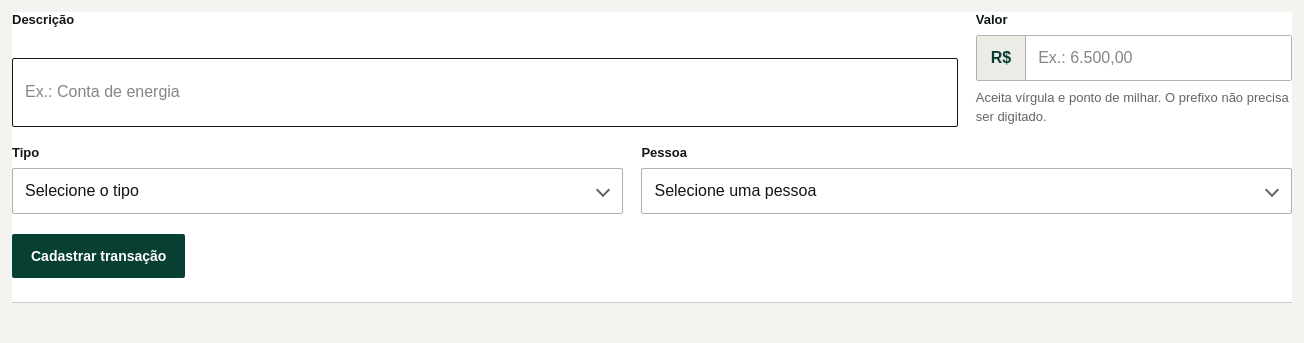
TransactionForm › exige tipo e pessoa
Type "Compra de supermercado" into the field labelled "Descrição".
click(485, 92); type("Compra de supermercado")  # box [12,58,958,127]
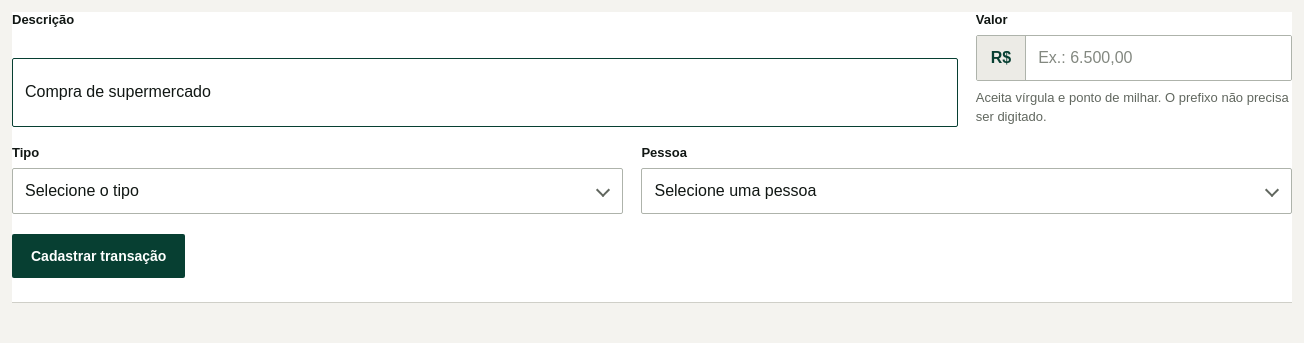
Type "100" into the field labelled "Valor".
click(1159, 58); type("100")  # box [1026,36,1291,80]
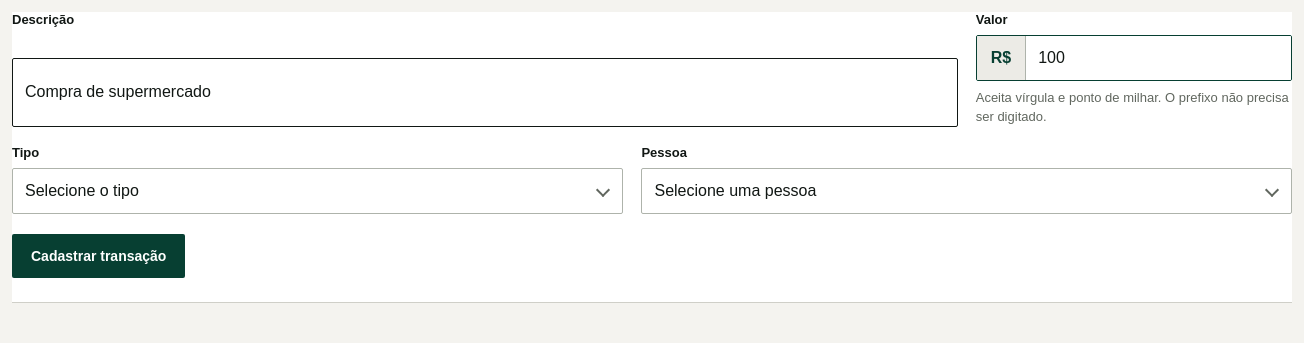
Click the button "Cadastrar transação".
click(99, 256)  # box [12,234,185,278]
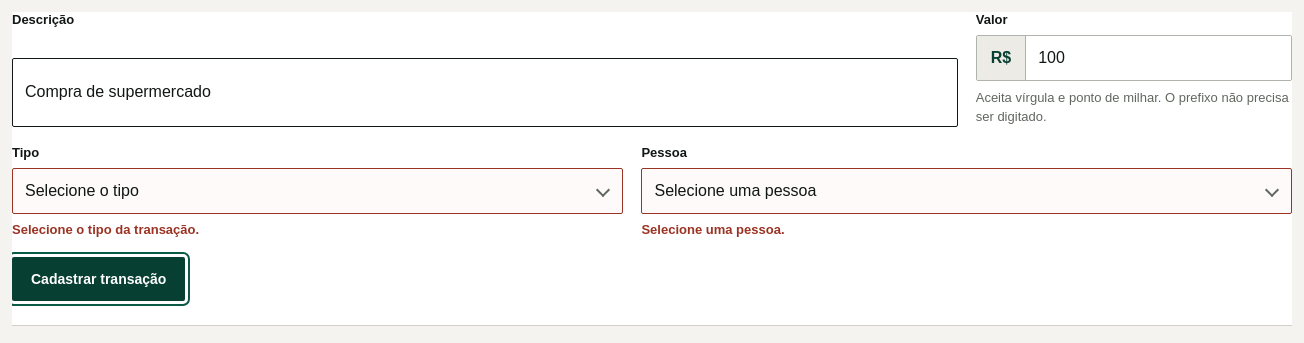
Expected: the text "Selecione o tipo da transação." is shown, [12,222,199,237]
Expected: the text "Selecione uma pessoa." is shown, [642,222,785,237]
